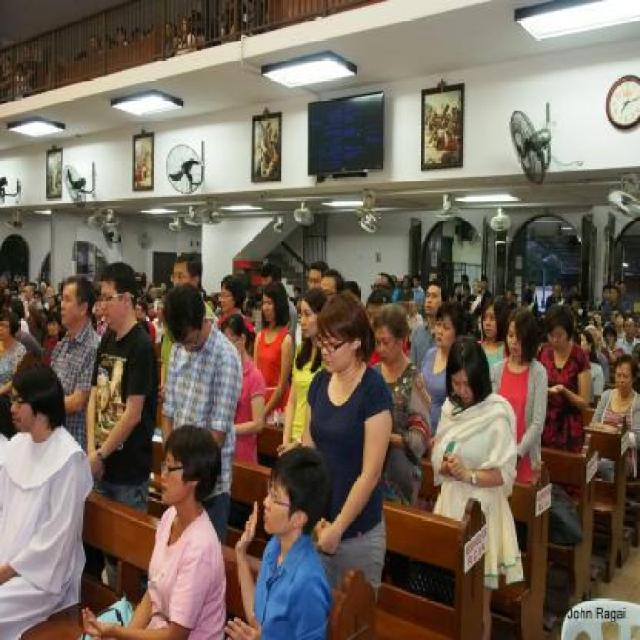Person: (81, 417, 228, 638), (299, 295, 393, 607), (0, 359, 95, 638), (430, 329, 525, 602), (85, 259, 158, 596), (222, 441, 333, 639), (159, 282, 241, 542), (372, 303, 430, 592), (488, 309, 550, 476), (538, 302, 590, 500), (156, 253, 218, 413), (48, 273, 101, 452), (277, 284, 331, 458), (220, 316, 269, 466), (416, 301, 470, 437), (584, 351, 638, 486), (252, 281, 292, 428), (259, 262, 298, 367), (0, 310, 28, 439), (411, 279, 449, 372), (362, 292, 408, 363), (476, 296, 510, 370), (216, 272, 256, 330), (575, 330, 602, 408), (586, 325, 608, 386), (134, 301, 154, 348), (42, 312, 60, 358), (468, 275, 483, 330), (7, 299, 28, 335), (319, 271, 347, 298), (607, 325, 625, 366), (617, 316, 638, 350), (370, 269, 395, 296), (542, 283, 567, 309), (604, 284, 622, 319), (607, 307, 625, 342), (308, 260, 330, 288), (616, 283, 635, 314), (406, 296, 420, 338), (94, 297, 109, 335), (152, 296, 166, 335), (410, 277, 424, 314), (344, 276, 362, 301), (25, 283, 37, 314), (457, 272, 469, 303), (145, 297, 158, 323), (459, 287, 472, 313), (481, 273, 493, 301), (598, 283, 611, 308), (451, 281, 462, 307), (524, 283, 534, 308), (503, 284, 511, 313), (45, 286, 57, 305), (17, 280, 25, 298), (511, 292, 520, 308), (592, 312, 602, 323), (46, 294, 56, 304), (404, 275, 408, 291)
